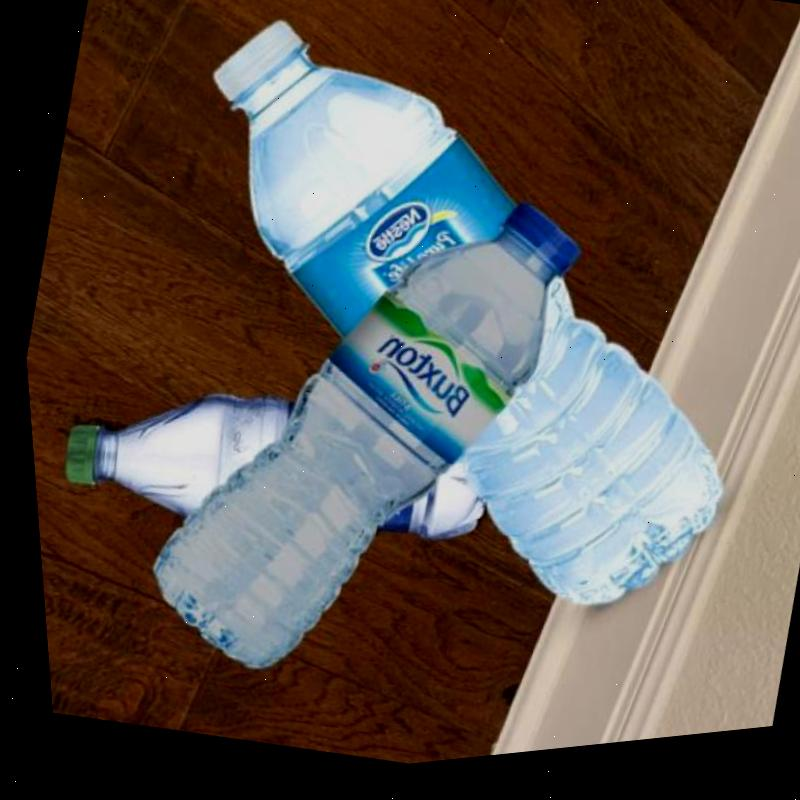botella: (87, 0, 800, 690), (97, 134, 610, 742), (42, 333, 499, 597)
